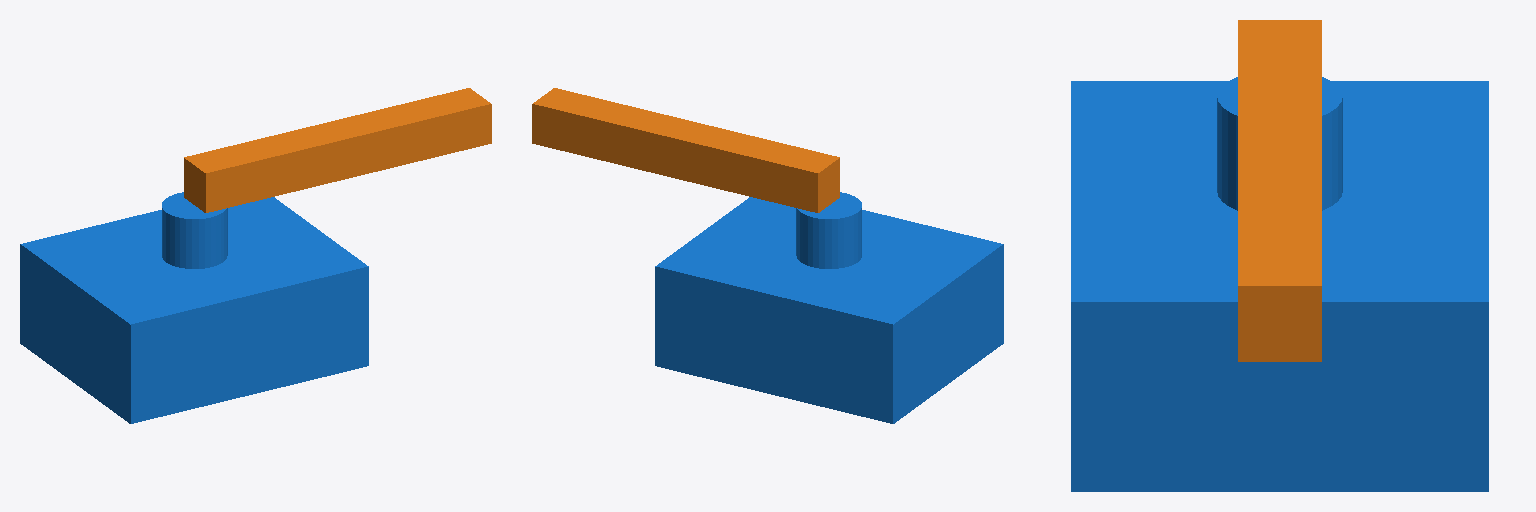
The robot description file, URDF, robot "joint_revolute_axis":
<?xml version="1.0"?>
<robot name="joint_revolute_axis">
    <material name="blue">
        <color rgba="0.15 0.55 0.90 1.0"/>
    </material>
    <material name="orange">
        <color rgba="0.95 0.55 0.15 1.0"/>
    </material>

    <link name="base_link">
        <!-- 车身 -->
        <visual>
            <origin xyz="0 0 0.1"/>
            <geometry>
                <box size="0.5 0.4 0.2"/>
            </geometry>
            <material name="blue"/>
        </visual>

        <!-- 圆柱形安装座 -->
        <visual>
            <origin xyz="0 0 0.25"/>
            <geometry>
                <cylinder radius="0.06" length="0.1"/>
            </geometry>
            <material name="blue"/>
        </visual>
    </link>

    <link name="arm_link">
        <visual>
            <origin xyz="0.3 0 0"/>
            <geometry>
                <box size="0.6 0.08 0.08"/>
            </geometry>
            <material name="orange"/>
        </visual>
    </link>

    <joint name="arm_joint" type="revolute">
        <parent link="base_link"/>
        <child link="arm_link"/>
        <origin xyz="0 0 0.34" rpy="0 0 0"/>
        <axis xyz="0 1 0"/>
        <limit lower="-3.141592653" upper="0"
               effort="10.0" velocity="1.0"/>
    </joint>
</robot>

--- Facts derived from the render (not from the file) ---
Views: 3 orthographic renders of the robot side by side, from view 1: azimuth 30°, elevation 25°; view 2: azimuth 150°, elevation 25°; view 3: azimuth 270°, elevation 25°.
Model joint_revolute_axis with 2 links and 1 joints (1 revolute), rooted at base_link, posed every joint at zero.
Visible links, largest first — view 1: base_link, arm_link; view 2: base_link, arm_link; view 3: base_link, arm_link.
Link boxes in pixels (left/top/right/bottom): base_link: left=20, top=192, right=368, bottom=423; arm_link: left=184, top=88, right=491, bottom=212; base_link: left=655, top=192, right=1003, bottom=423; arm_link: left=532, top=88, right=839, bottom=212; base_link: left=1071, top=77, right=1488, bottom=491; arm_link: left=1238, top=20, right=1321, bottom=361.
Size in the robot's own frame: 0.85 by 0.4 by 0.38 metres.
Geometry: primitives only (box / cylinder / sphere), no mesh files.
